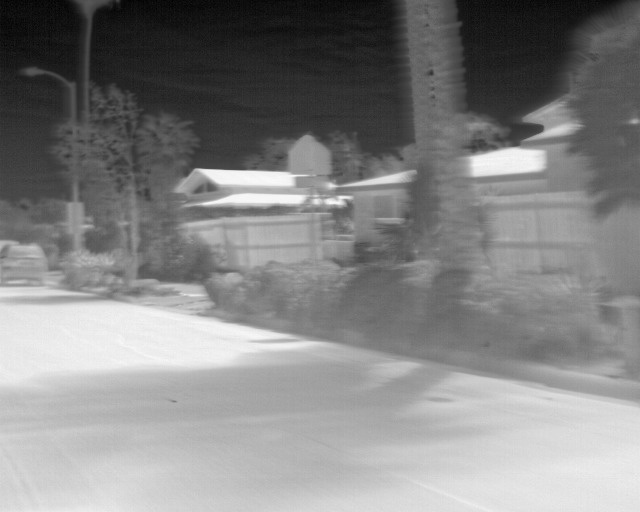vehicle: (1, 240, 48, 289)
